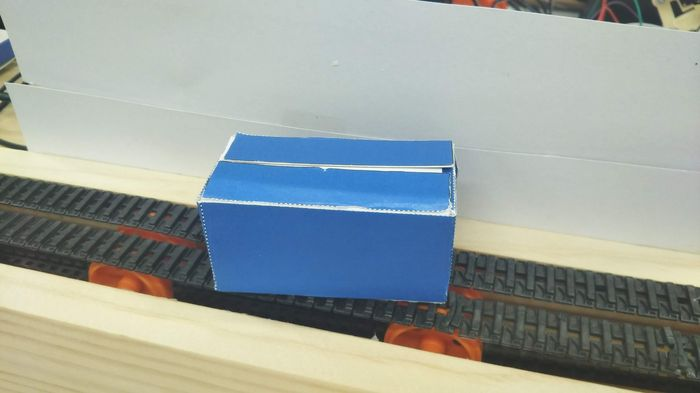box3: (195, 127, 459, 307)
